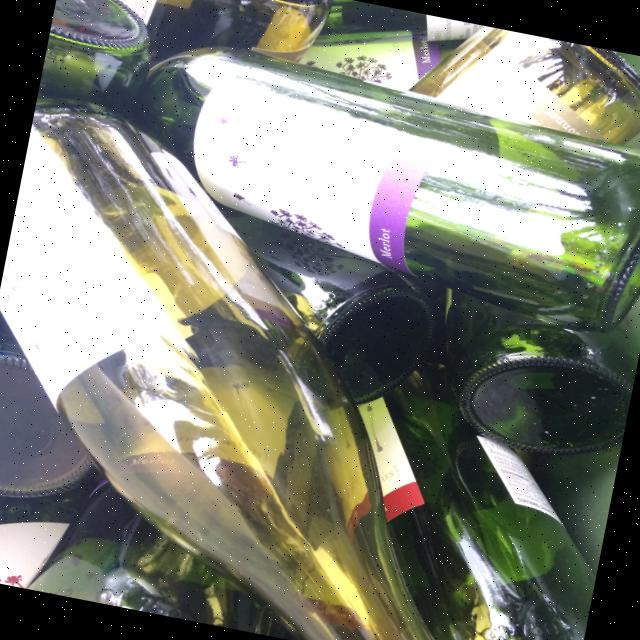glass: (0, 92, 530, 640), (107, 29, 640, 343)
